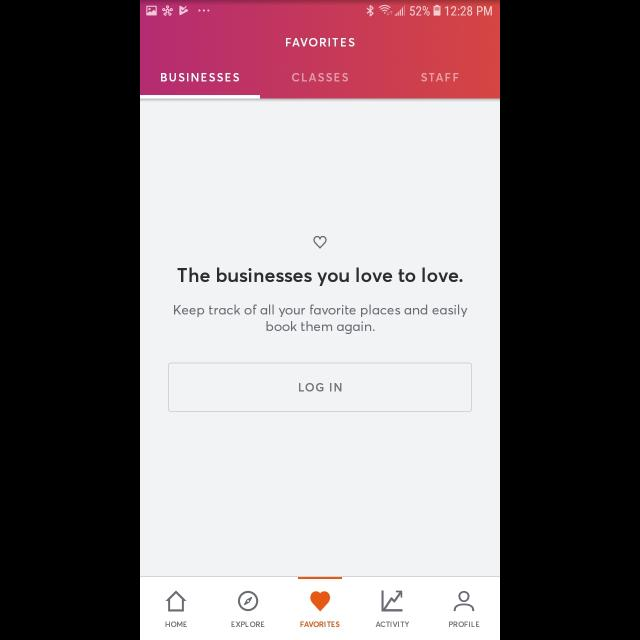icon: (166, 590, 187, 612), (238, 590, 258, 612), (382, 590, 402, 612), (454, 590, 474, 612), (310, 592, 330, 612), (314, 236, 326, 248)
text: (174, 305, 468, 335), (178, 268, 462, 286), (286, 38, 356, 48), (160, 74, 240, 82), (292, 74, 348, 82), (421, 74, 459, 82), (300, 621, 340, 627), (375, 621, 409, 627), (232, 621, 264, 627), (448, 621, 479, 627), (165, 621, 187, 627)
textbutton: (168, 363, 472, 413)
uppertaskbar: (140, 1, 500, 18)
